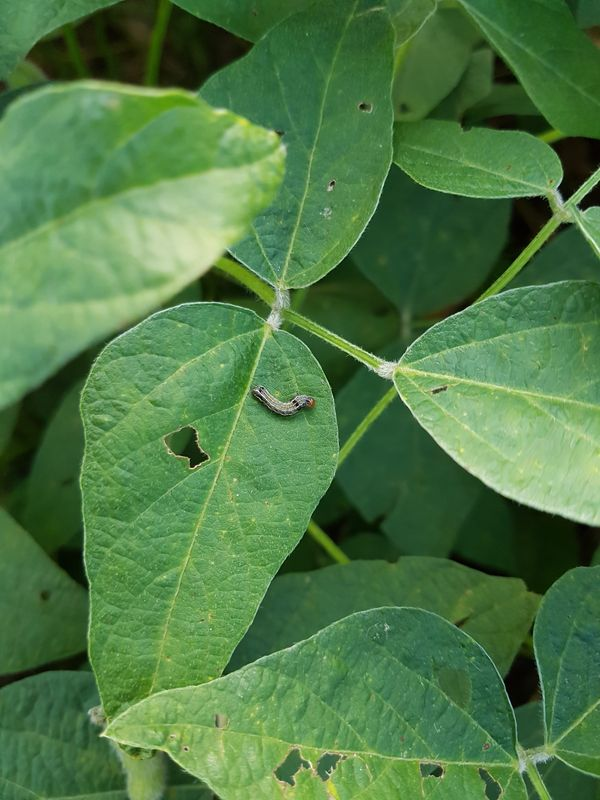Spodoptera_albula: (234, 366, 328, 435)
